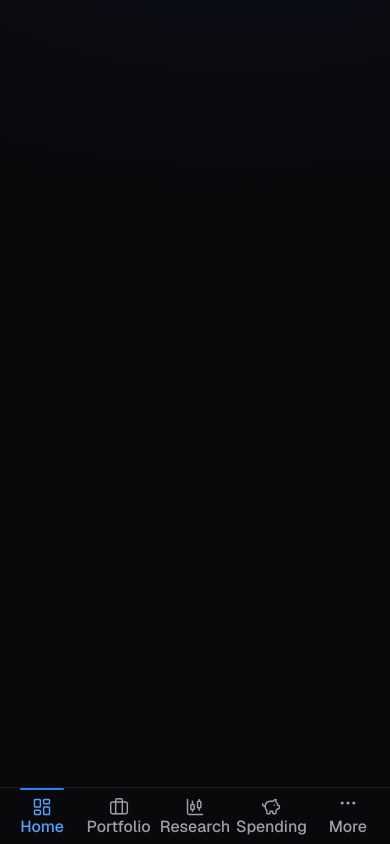
Test: MobileNav › closes on backdrop click
The width and height of the screenshot is (390, 844).
Click the button "More". click: (348, 816)
box: [310,788,386,843]
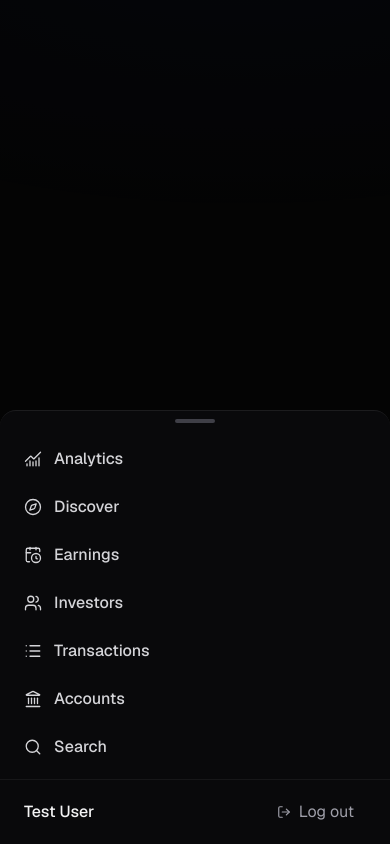
Click the element with test id "more-backdrop". click: (195, 51)
box: [0,0,389,843]
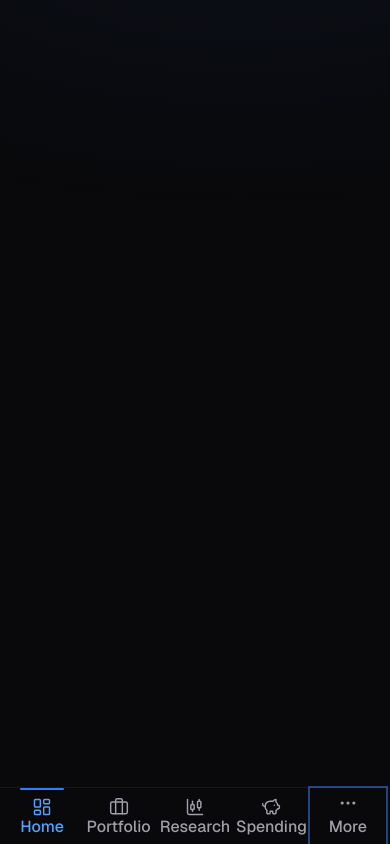
expect the dialog is gone: met
